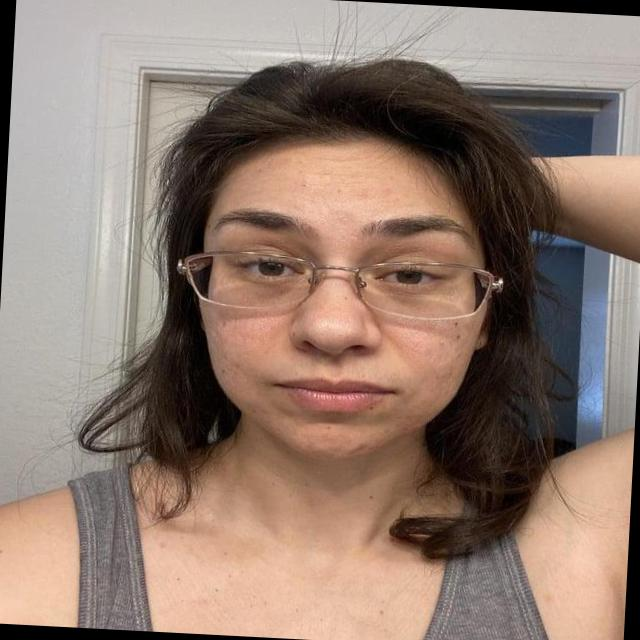redness: (223, 299, 292, 351), (386, 310, 452, 355)
